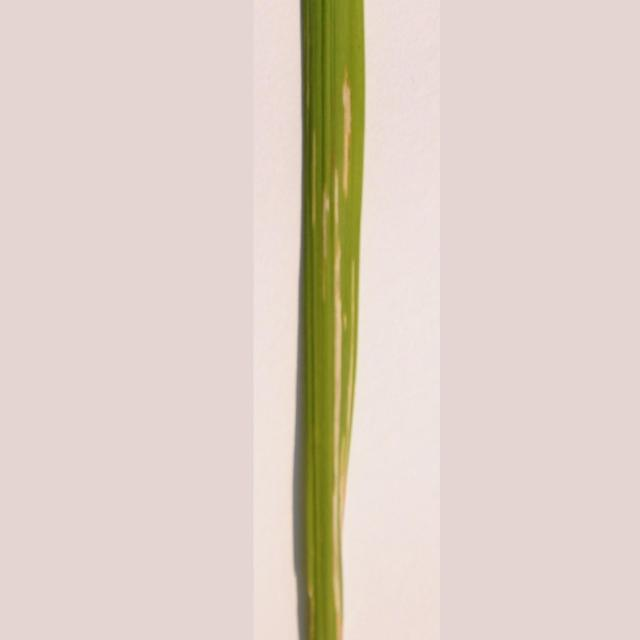Bacterial leaf blight: (270, 0, 430, 640)
